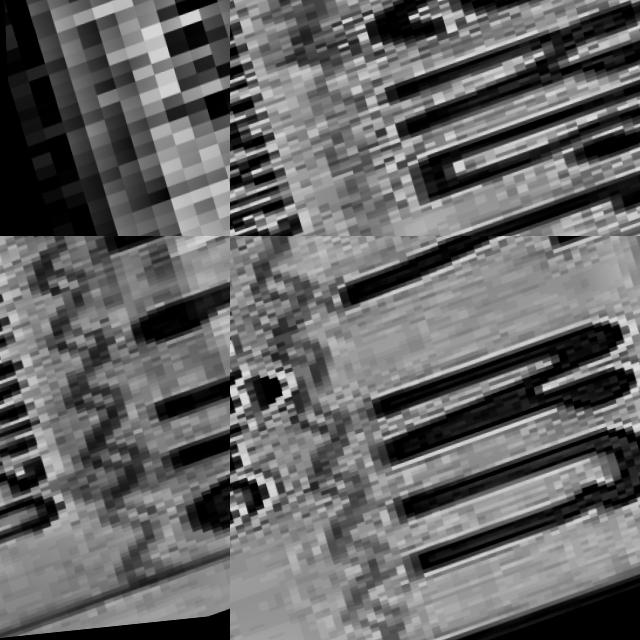license-plate: (230, 236, 640, 640), (230, 0, 640, 236), (0, 236, 230, 640), (0, 0, 230, 236)
